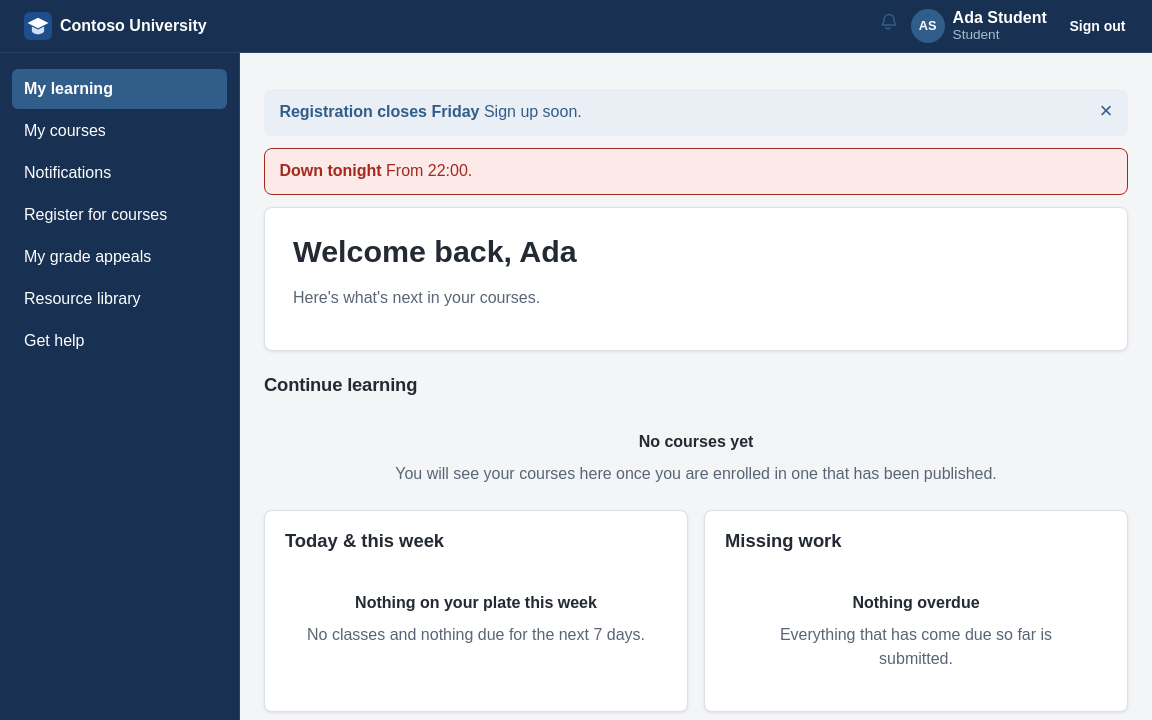
Test: the menu › shows the institution’s notices at the top and lets a reader dismiss them, but not an urgent one
The width and height of the screenshot is (1152, 720).
Check: the text "Registration closes Friday" is shown, box [279, 103, 480, 120]
Check: the text "Down tonight" is shown, box [279, 162, 382, 179]
Click the button named "Dismiss: Registration closes Friday": (1106, 111) [1092, 96, 1121, 126]
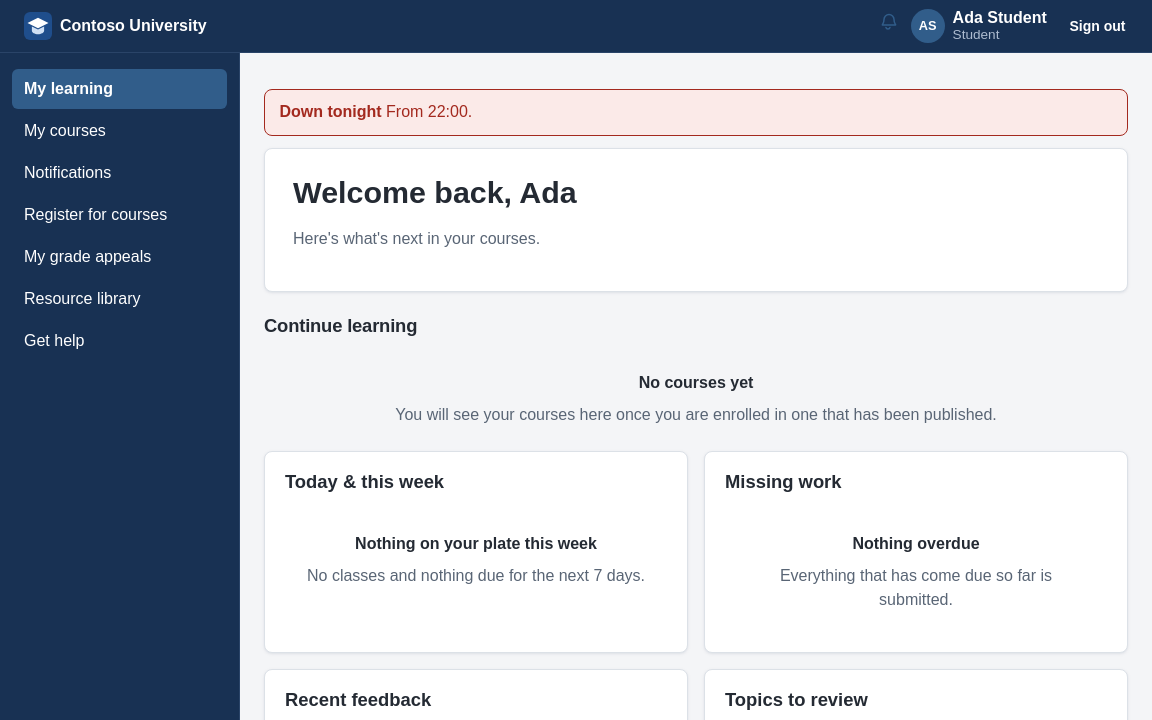
Check: the text "Registration closes Friday" is gone
